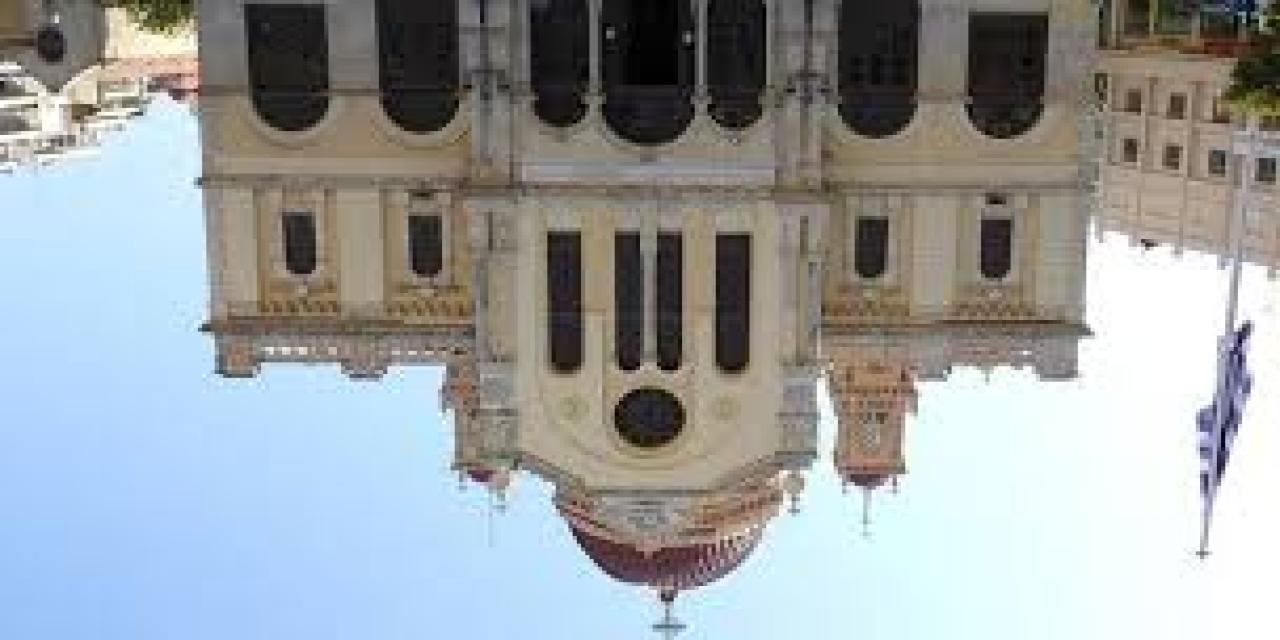Agios Minas: (190, 1, 1104, 606)
